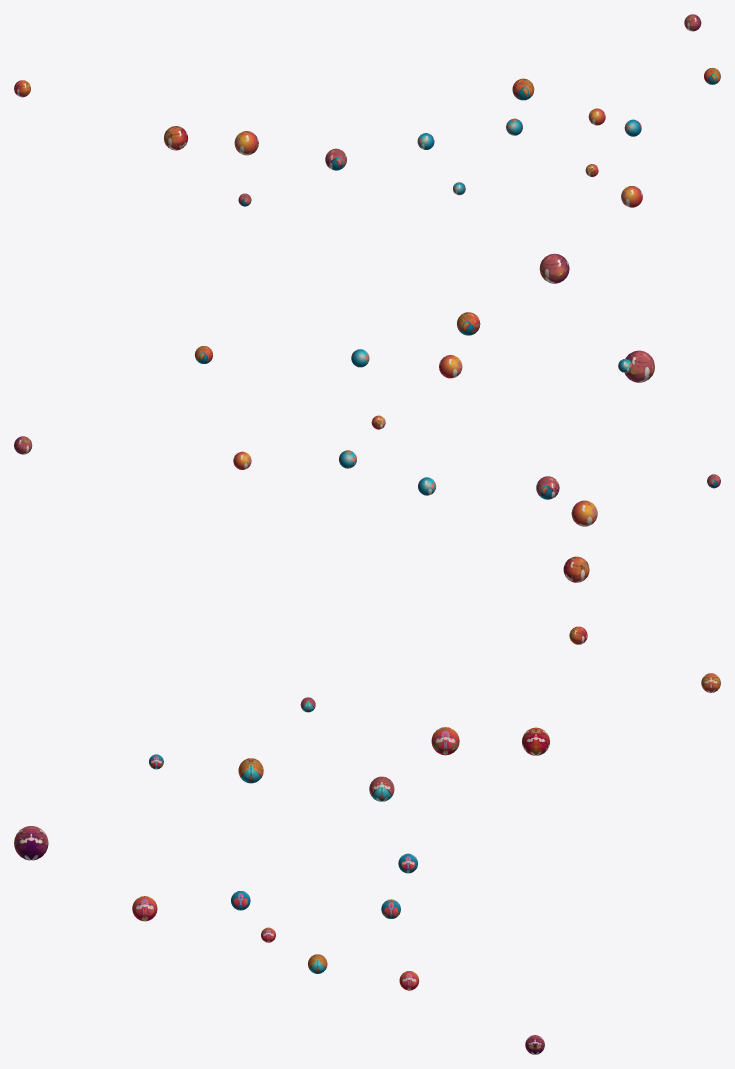
The model's file is xingqiu.glb.
The picture shows the model from 3 angles, top to bottom: view 1: azimuth 30°, elevation 25°; view 2: azimuth 150°, elevation 25°; view 3: azimuth 270°, elevation 25°; orthographic projection. The views are drawn at different scales.
Parts seen in each view (by area): view 1: ¶ÔÏó014, ¶ÔÏó003, ¶ÔÏó007; view 2: ¶ÔÏó014, ¶ÔÏó003, ¶ÔÏó007; view 3: ¶ÔÏó014, ¶ÔÏó007, ¶ÔÏó003.
Part boxes in pixels (x1,y1,x2,y2): ¶ÔÏó014: [539, 253, 569, 283]; ¶ÔÏó003: [163, 126, 188, 150]; ¶ÔÏó007: [234, 131, 258, 155]; ¶ÔÏó014: [624, 350, 654, 382]; ¶ÔÏó003: [563, 556, 589, 582]; ¶ÔÏó007: [571, 500, 597, 526]; ¶ÔÏó014: [14, 826, 48, 860]; ¶ÔÏó007: [431, 727, 459, 755]; ¶ÔÏó003: [522, 727, 549, 755].
Size of the model in its own units: 322 by 65.68 by 280.
1 material, 1 textured.
